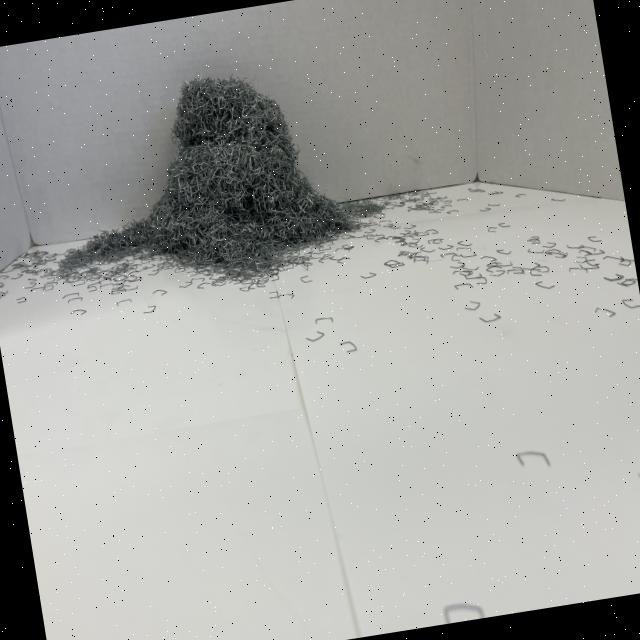staples: (44, 52, 364, 292)
